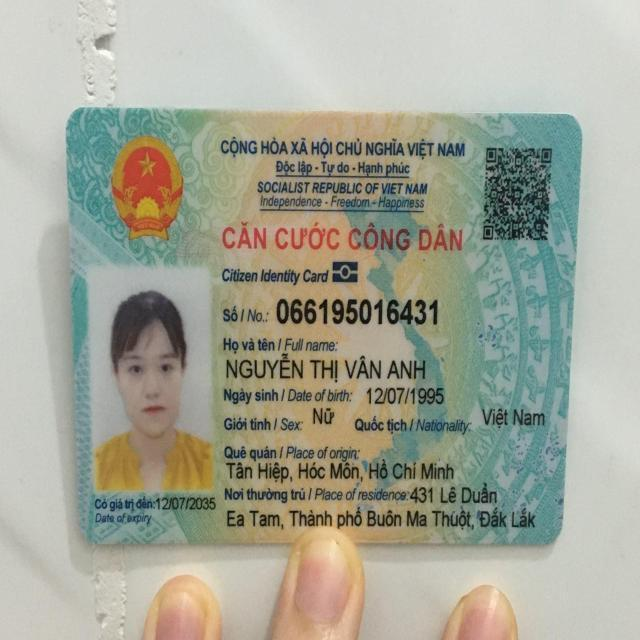current_place: (225, 506, 538, 531), (407, 482, 501, 505)
dob: (366, 381, 450, 407)
expire_date: (152, 494, 217, 516)
gender: (310, 404, 336, 426)
id: (276, 296, 440, 326)
name: (225, 352, 427, 385)
nationality: (480, 402, 543, 428)
origin_place: (224, 458, 455, 484)
